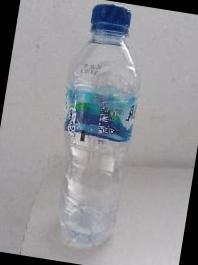Plastik: (58, 3, 137, 247)
